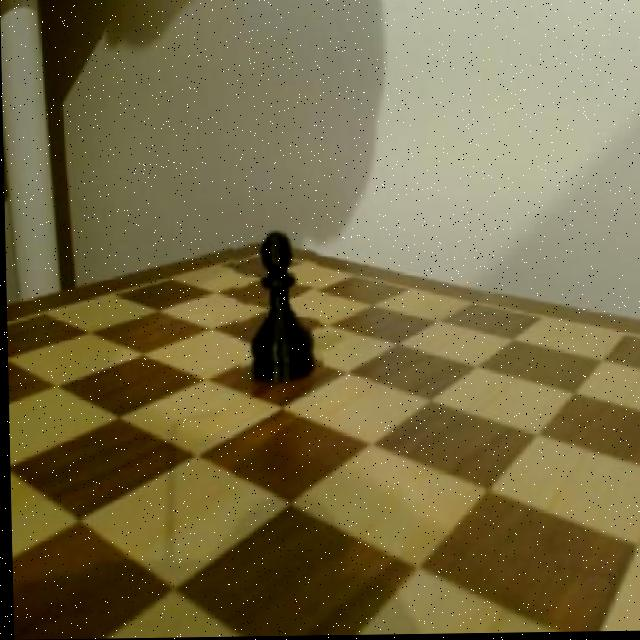black-knight: (232, 223, 321, 386)
